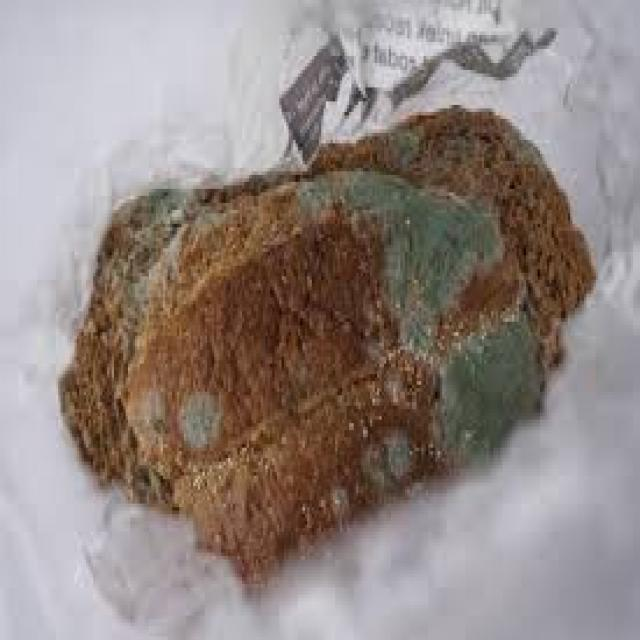organic waste: (56, 98, 596, 511), (114, 165, 554, 588)
